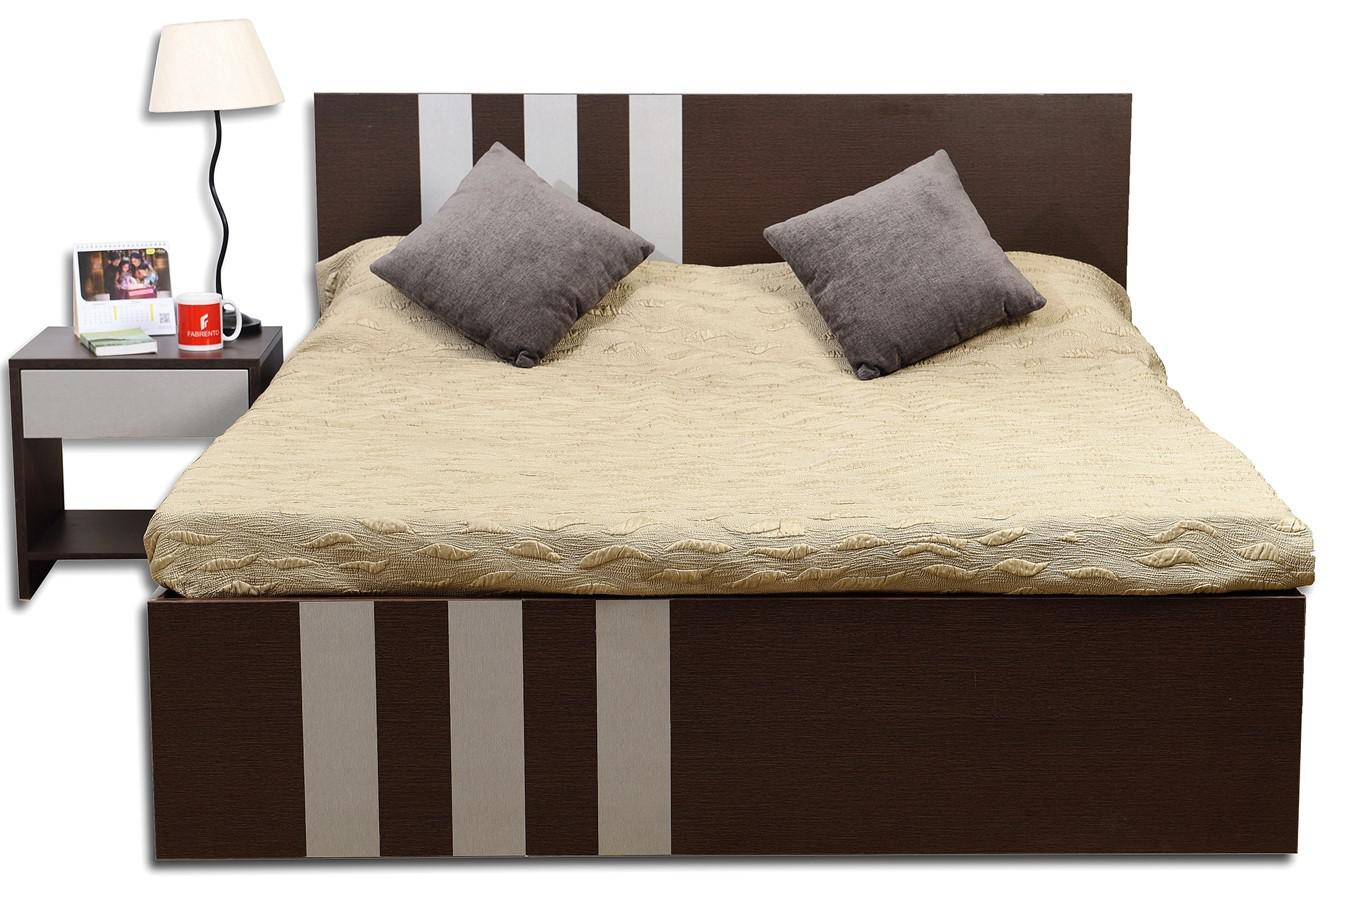bed: (105, 64, 1325, 898)
